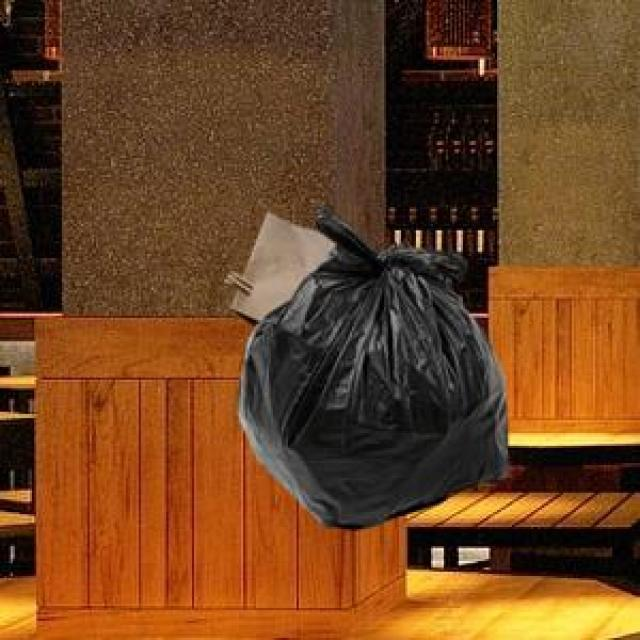miscellaneous trash: (235, 205, 501, 525)
paper: (224, 210, 333, 322)
